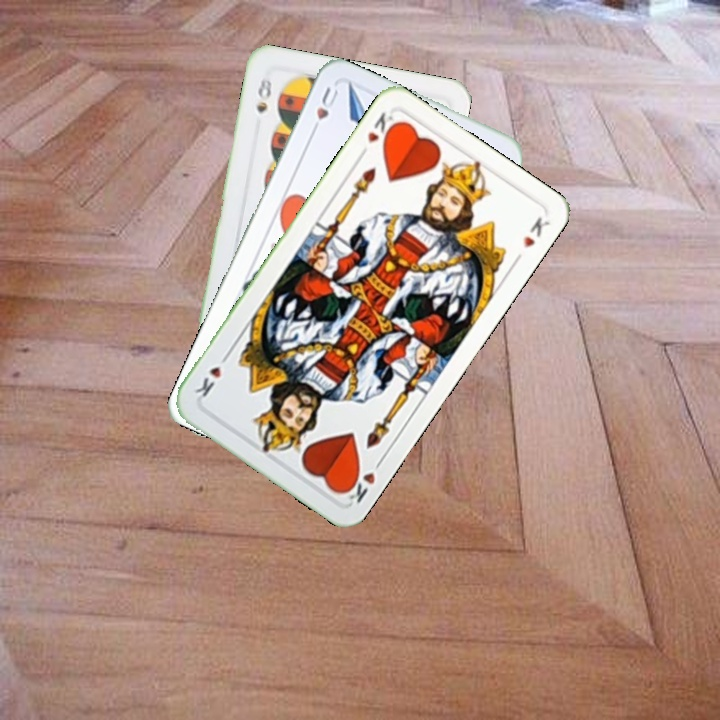HK: (338, 454, 386, 506), (355, 108, 396, 160)
HU: (306, 82, 341, 138)
S8: (252, 73, 275, 115)
